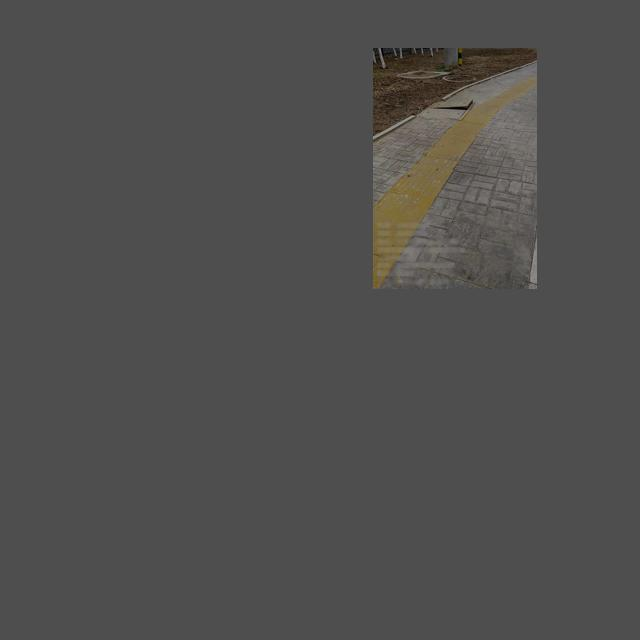uncovered: (423, 96, 475, 119)
